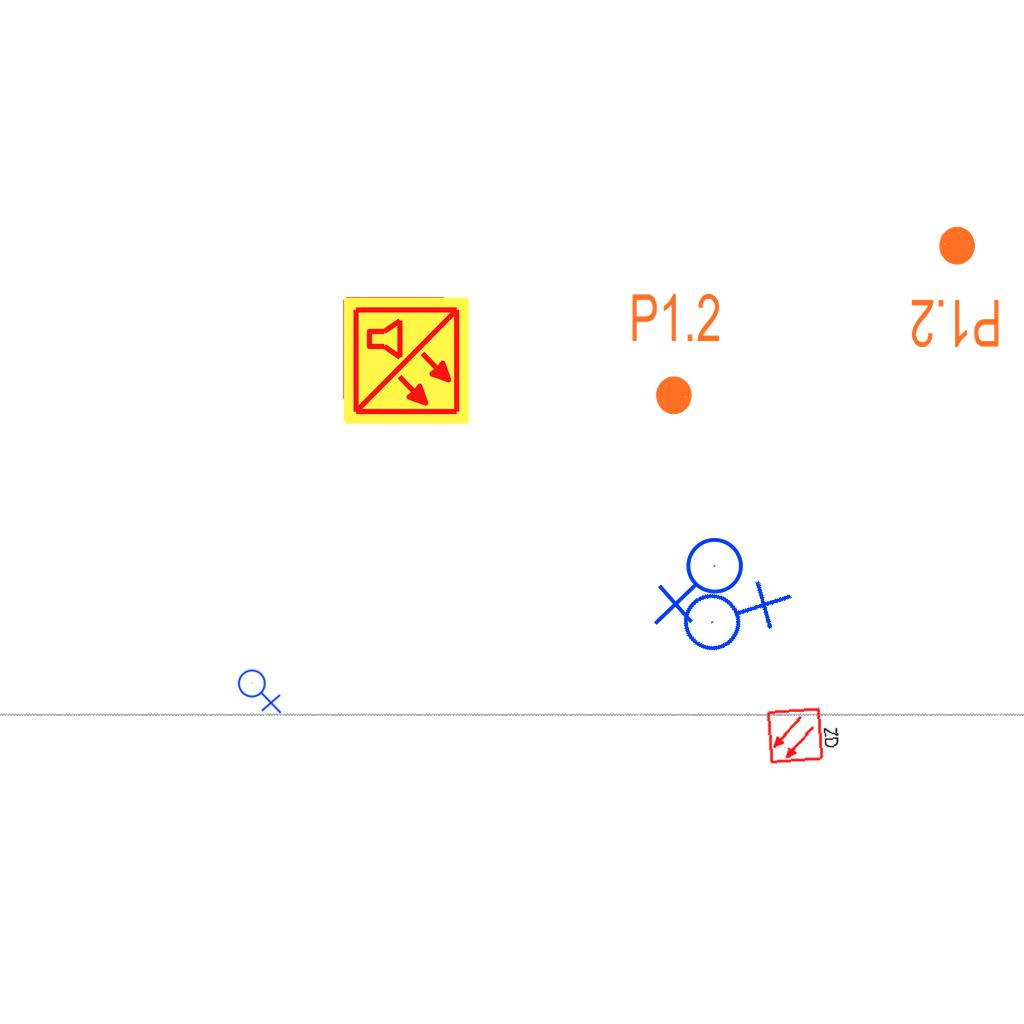Downlight_LED_Einbauleuchten_Flur: (629, 290, 722, 418), (909, 223, 1002, 351)
Elektroanschluss_allgemein_230V_Geraeteanschlussdose_230V: (665, 548, 796, 676), (653, 536, 752, 630), (237, 665, 284, 714)
OKW_Multisensormelder_(Kombination_optischer_Rauch-Kahlenmonoxid_Waerme-Melder): (340, 295, 472, 427)
ZD_Melder_in_Zwischendecke_mit_Revisionsoeffnung_mind_40_x_40_cm: (765, 702, 844, 766)
